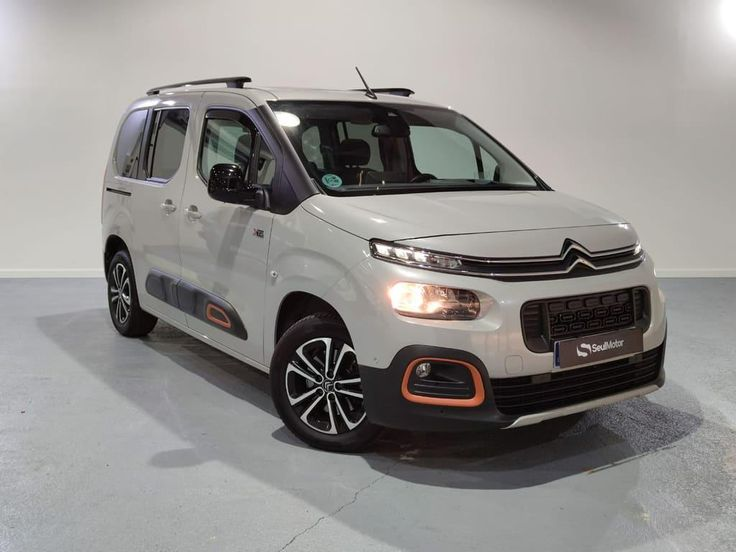car: (85, 75, 676, 468)
